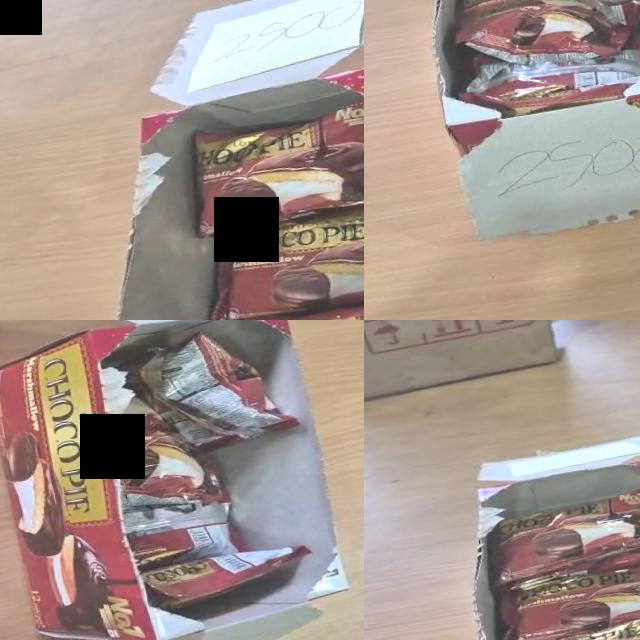Chocopie: (183, 96, 364, 238), (127, 320, 303, 461), (199, 202, 364, 320), (106, 382, 232, 521), (481, 483, 640, 589), (453, 36, 640, 124), (445, 0, 638, 81), (138, 541, 320, 614), (486, 556, 640, 640), (122, 492, 248, 572), (505, 601, 640, 640), (536, 0, 640, 41)
